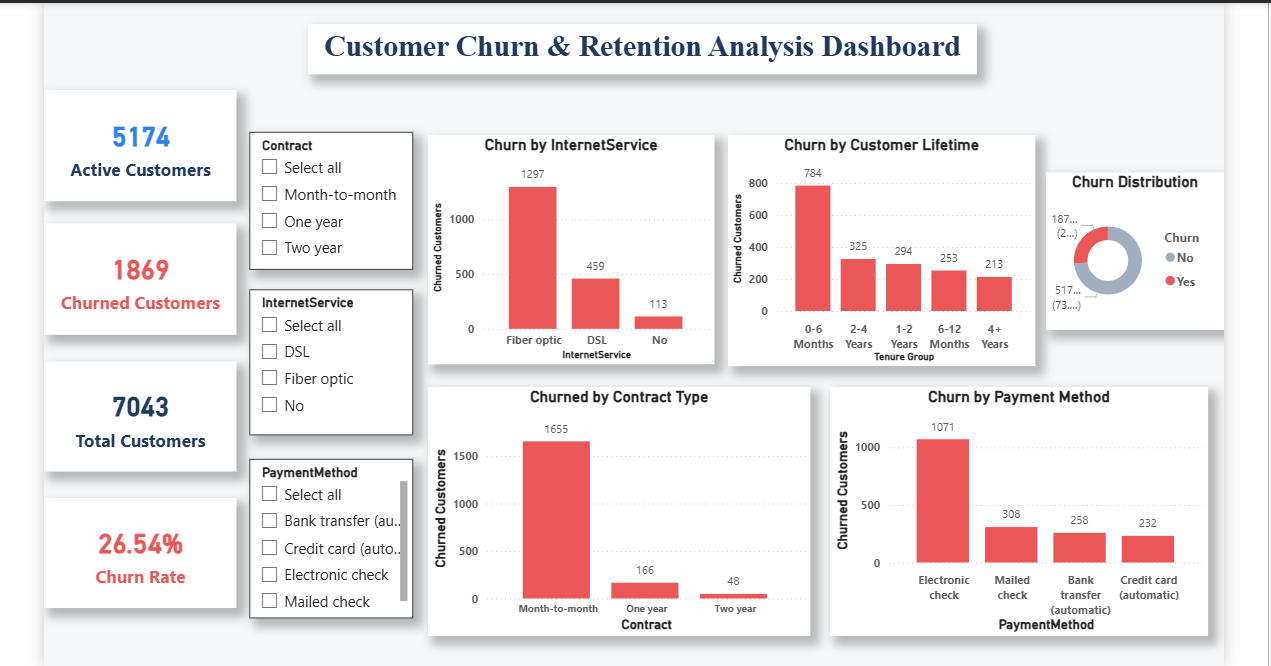

This screenshot's page, from the dashboard's own definition file:
{"tool":"powerbi","page":{"name":"Page 1","canvas":[1280,720],"ordinal":0},"visuals":[{"type":"card","fields":{"Values":["telco_churn.Total Customers"]},"box":[0,389.3,208.7,119.3],"z":0},{"type":"card","fields":{"Values":["telco_churn.Churned Customers"]},"box":[0,238.5,208.7,120.9],"z":1000},{"type":"card","fields":{"Values":["telco_churn.Active Customers"]},"box":[0,94.4,208.7,120.9],"z":2000},{"type":"card","fields":{"Values":["telco_churn.Churn Rate"]},"box":[0,536.7,208.7,119.3],"z":3000},{"type":"clusteredColumnChart","title":"Churned by Contract Type","fields":{"Category":["telco_churn.Contract"],"Y":["telco_churn.Churned Customers"]},"box":[416.4,416.4,414.8,270],"z":4000},{"type":"clusteredColumnChart","title":"Churn by InternetService","fields":{"Category":["telco_churn.InternetService"],"Y":["telco_churn.Churned Customers"]},"box":[416.4,143.1,310.7,248.9],"z":4001},{"type":"clusteredColumnChart","title":"Churn by Customer Lifetime","fields":{"Category":["telco_churn.Tenure Group"],"Y":["telco_churn.Churned Customers"]},"box":[741.7,143.1,333.4,250.5],"z":4002},{"type":"clusteredColumnChart","title":"Churn by Payment Method","fields":{"Category":["telco_churn.PaymentMethod"],"Y":["telco_churn.Churned Customers"]},"box":[852.3,416.4,409.9,270],"z":4003},{"type":"slicer","fields":{"Values":["telco_churn.Contract"]},"box":[222.8,139.9,177.3,149.6],"z":4004},{"type":"slicer","fields":{"Values":["telco_churn.InternetService"]},"box":[222.8,310.7,177.3,157.8],"z":4005},{"type":"slicer","fields":{"Values":["telco_churn.PaymentMethod"]},"box":[222.8,494.5,177.3,172.4],"z":4006},{"type":"textbox","box":[286.6,23.2,725.5,54.7],"z":4007},{"type":"donutChart","title":"Churn Distribution","fields":{"Y":["CountNonNull(telco_churn.customerID)"],"Category":["telco_churn.Churn"]},"box":[1086.5,183.8,193.6,170.8],"z":4008}]}

Visuals, with their boxes in screenshot pixels (x1, y1, x2, y2):
card - telco_churn.Total Customers: x1=50 y1=335 x2=240 y2=444
card - telco_churn.Churned Customers: x1=50 y1=197 x2=240 y2=308
card - telco_churn.Active Customers: x1=50 y1=66 x2=240 y2=176
card - telco_churn.Churn Rate: x1=50 y1=469 x2=240 y2=578
"Churned by Contract Type" clusteredColumnChart: x1=429 y1=360 x2=807 y2=606
"Churn by InternetService" clusteredColumnChart: x1=429 y1=111 x2=712 y2=337
"Churn by Customer Lifetime" clusteredColumnChart: x1=726 y1=111 x2=1029 y2=339
"Churn by Payment Method" clusteredColumnChart: x1=826 y1=360 x2=1200 y2=606
slicer - telco_churn.Contract: x1=253 y1=108 x2=414 y2=244
slicer - telco_churn.InternetService: x1=253 y1=263 x2=414 y2=407
slicer - telco_churn.PaymentMethod: x1=253 y1=431 x2=414 y2=588
textbox: x1=311 y1=1 x2=972 y2=51
"Churn Distribution" donutChart: x1=1040 y1=148 x2=1216 y2=303
